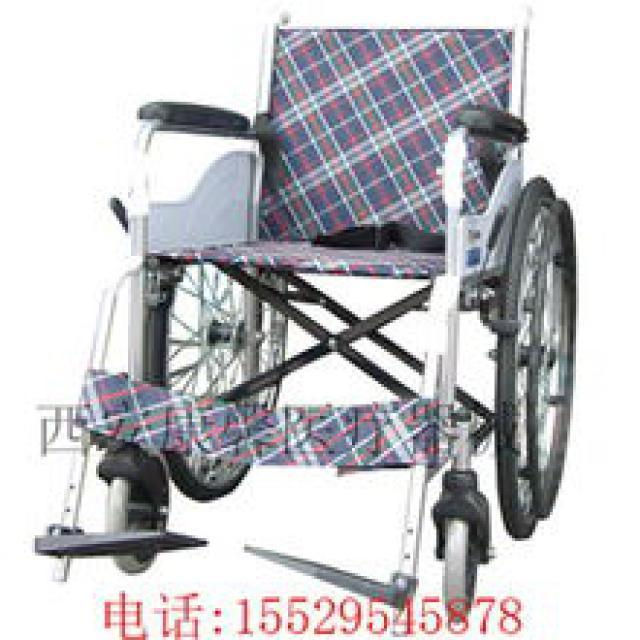wheelchairs: (40, 7, 579, 618)
